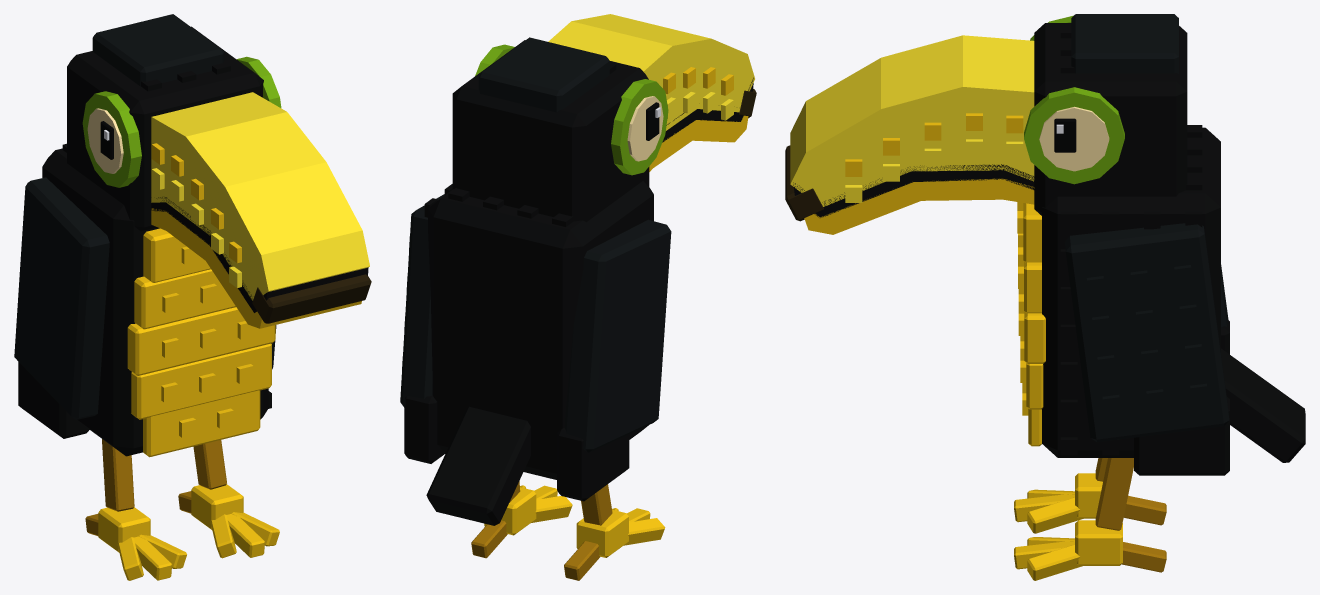
The model's file is TukannoBananno.glb.
3 views of the same model, side by side, from view 1: azimuth 30°, elevation 25°; view 2: azimuth 150°, elevation 25°; view 3: azimuth 270°, elevation 25° (orthographic). The views are drawn at different scales.
Parts seen in each view (by area): view 1: TukannoBananno; view 2: TukannoBananno; view 3: TukannoBananno.
Boxes of the visible parts, bbox=[...] form: TukannoBananno: bbox=[14, 14, 371, 580]; TukannoBananno: bbox=[400, 14, 756, 580]; TukannoBananno: bbox=[785, 14, 1305, 580].
Size of the model in its own units: 2.21 by 5 by 4.6.
1 material, 1 textured.
